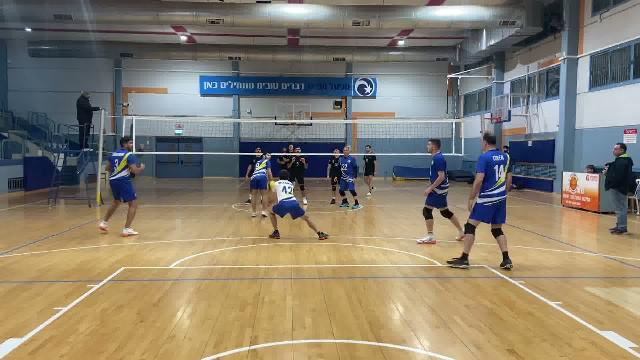ball: (267, 179, 275, 191)
